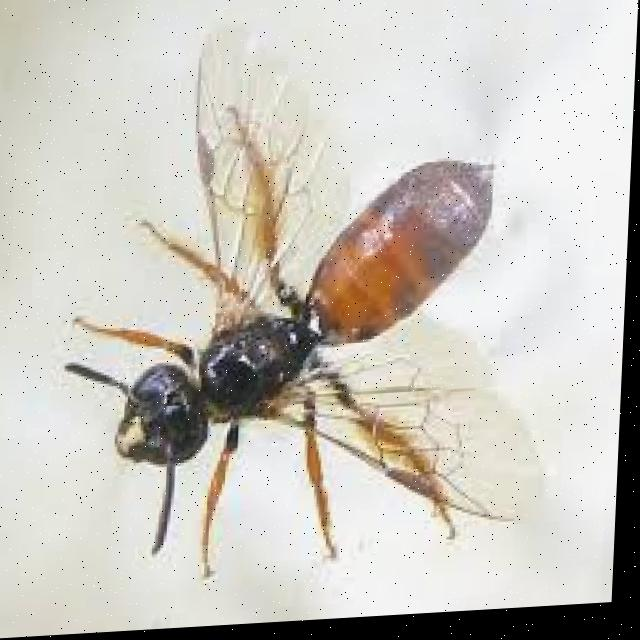Allodapula: (37, 4, 573, 620)
